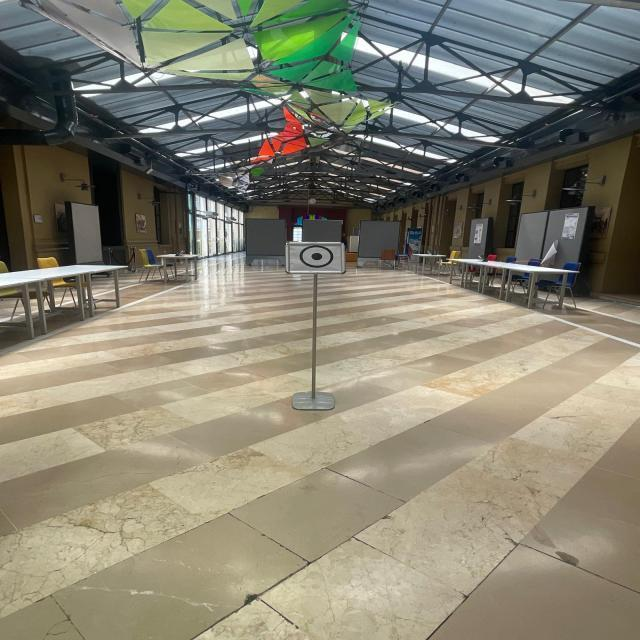Target: (277, 230, 356, 284)
inner: (310, 250, 326, 264)
